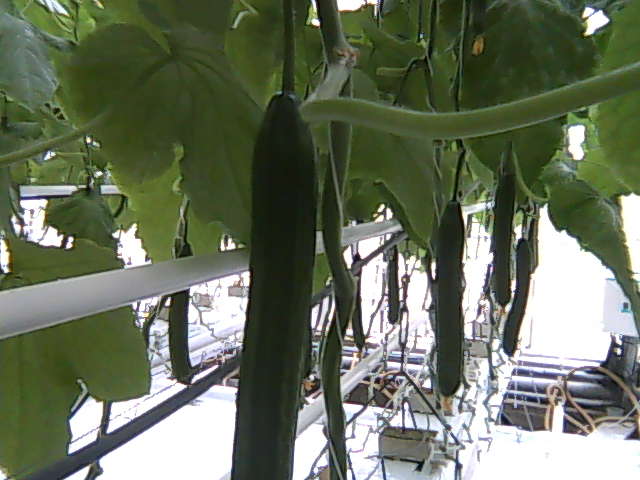concombre: (230, 85, 322, 480), (427, 197, 470, 420)
